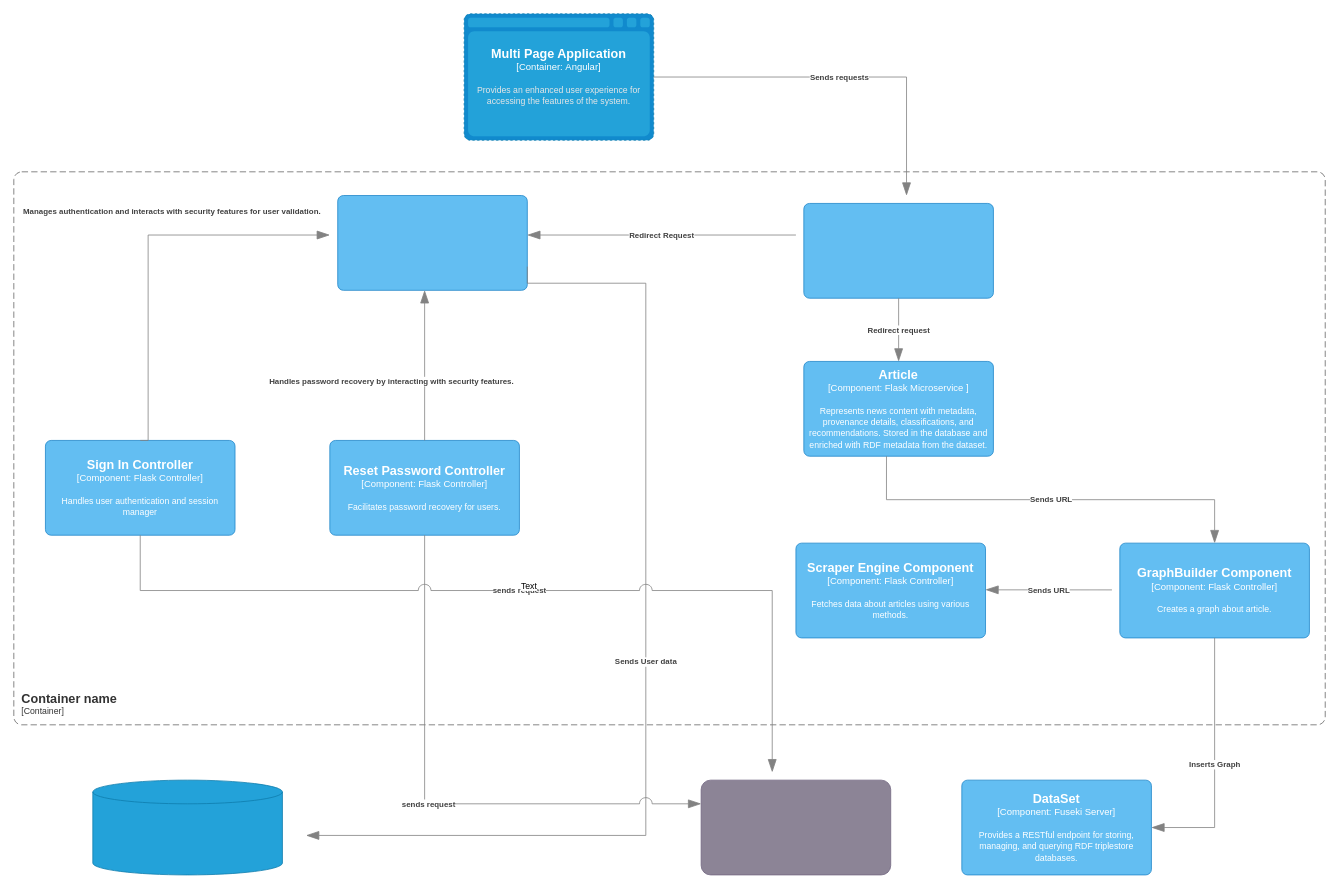
Image size: 1339x889. Some labels were removed from this diagram. The shapes that lost their labels are listed below. From the top down, each one's centre as x and y in pixels, then its label:
point (432, 242): Auth [Component: Flask Microservice] Manages auth requests
point (898, 250): API Gateaway [Component: Flask] Description of component role/responsibility.
point (187, 827): DataBase [Container: PostgreSQL] Stores news articles and user information
point (795, 827): Email System [Software System] Implemented with Flask Mail Extension
